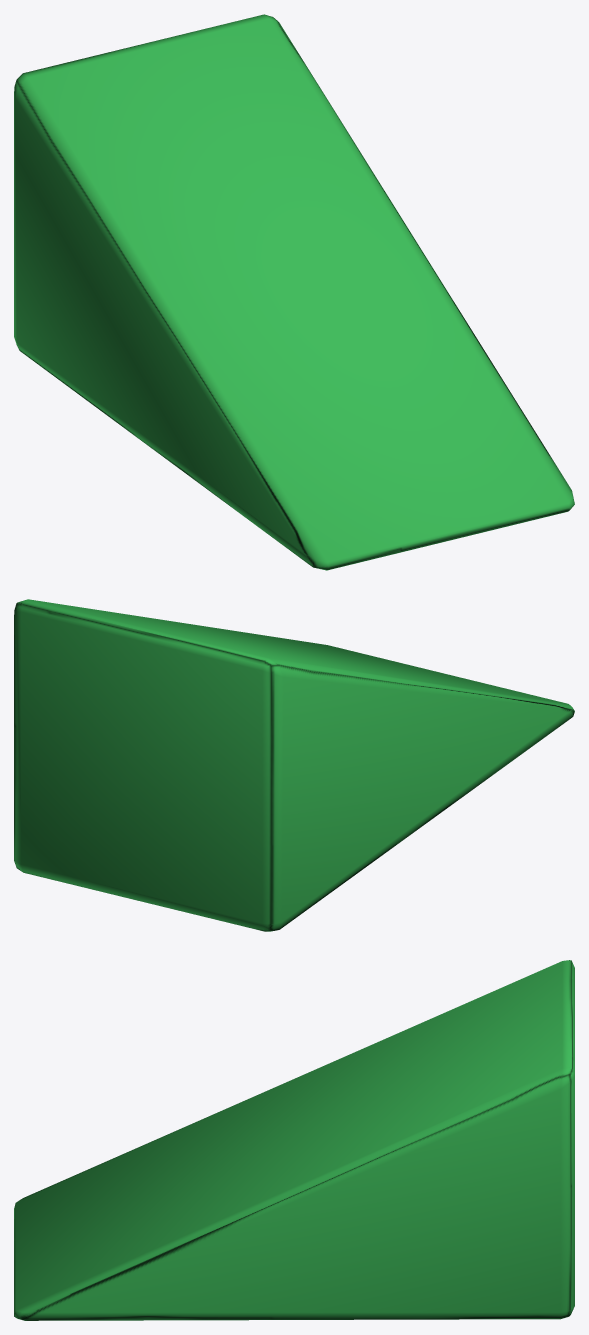
Rendered from Ramp_small_low.fbx.
The picture shows the model from 3 angles, top to bottom: view 1: azimuth 30°, elevation 25°; view 2: azimuth 150°, elevation 25°; view 3: azimuth 270°, elevation 25°; orthographic projection. The views are drawn at different scales.
Parts seen in each view (by area): view 1: Ramp_small_low; view 2: Ramp_small_low; view 3: Ramp_small_low.
Part boxes in pixels (<box>): Ramp_small_low: <box>14,14,574,570</box>; Ramp_small_low: <box>14,599,574,931</box>; Ramp_small_low: <box>14,960,574,1320</box>.
Size of the model in its own units: 200 by 196 by 397.
